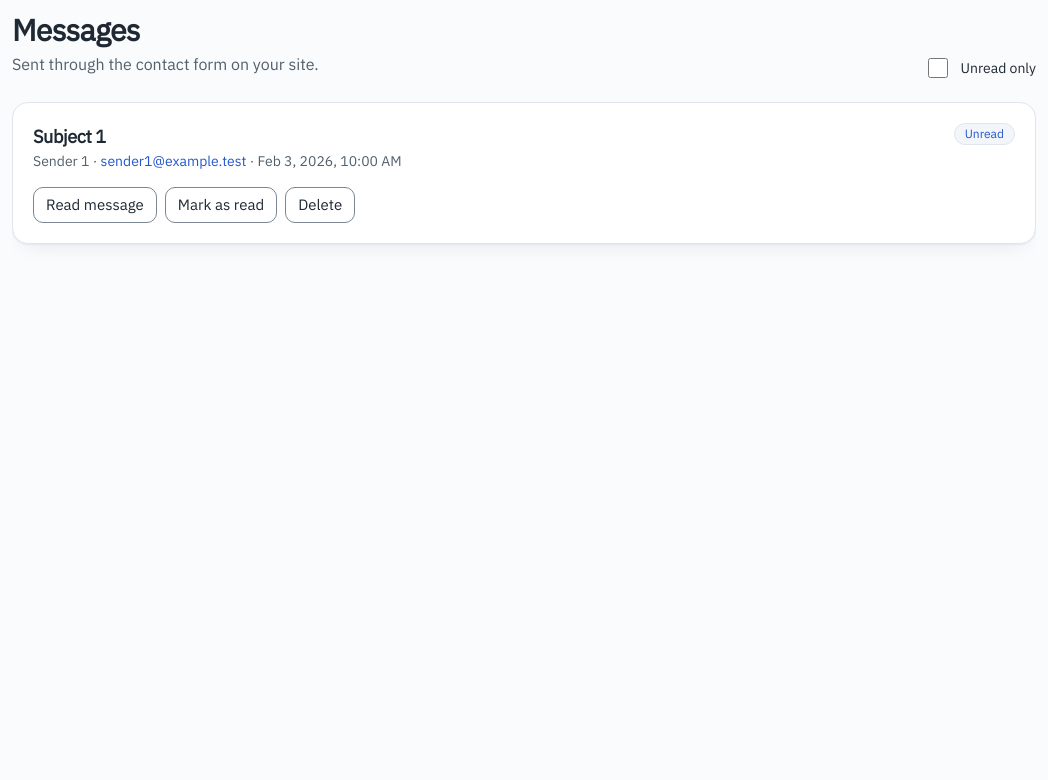
MessagesPage › reports a failed update instead of pretending it worked
What coordinates should you click on to do the following:
click the button named "Mark as read: Subject 1"
I would click on:
 (221, 205)
Its box is [165,187,277,223].
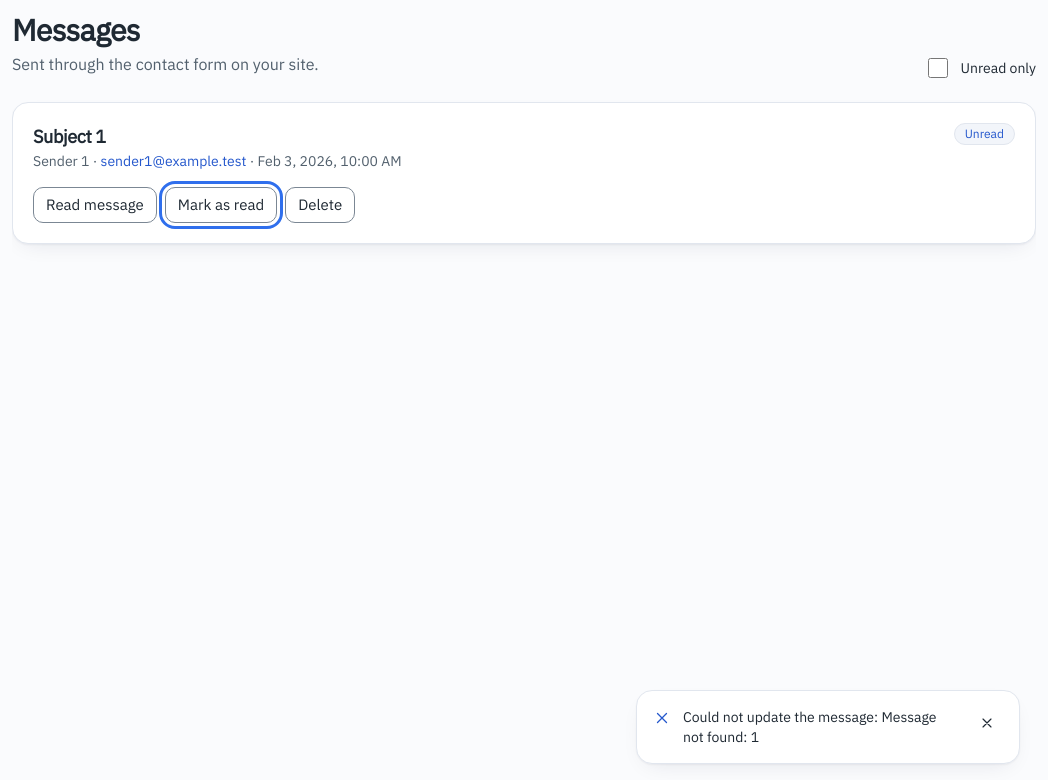
Result: the text "Could not update the message: Message not found: 1" is shown at [683,707,959,747]
